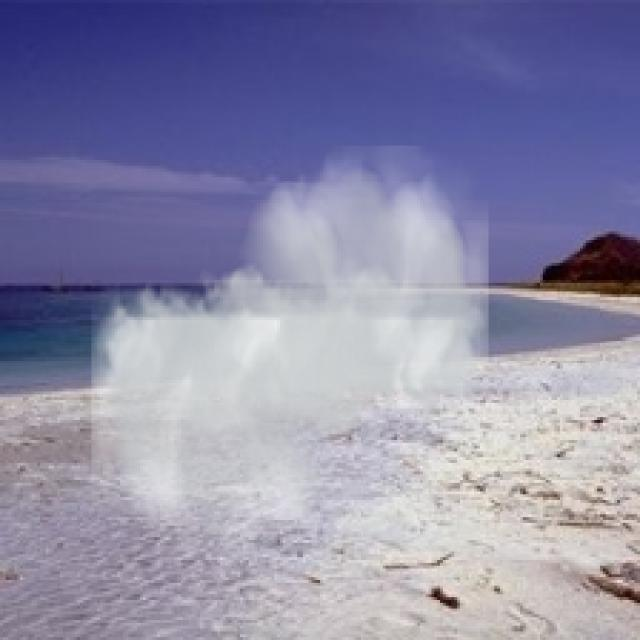smoke: (91, 146, 488, 560)
